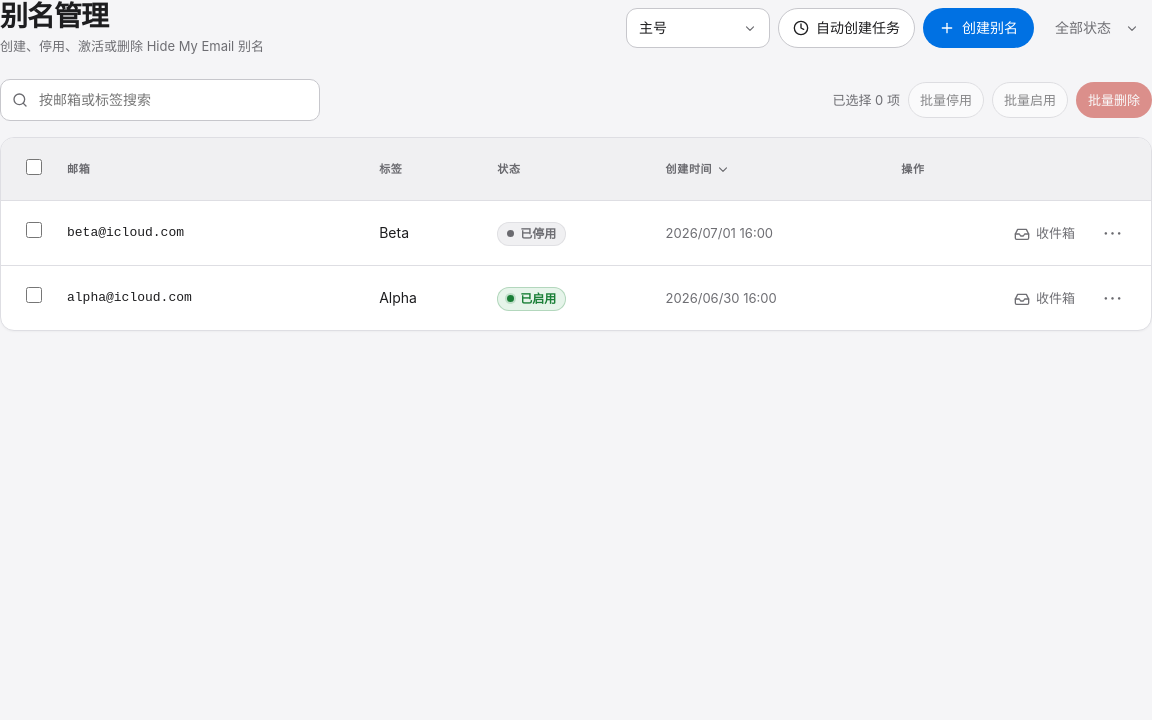
it: AliasesPage › 激活别名:显示目标邮箱并二次确认
Check: the button "beta@icloud.com" is shown, box x1=67 y1=213 x2=184 y2=253
Click the button named "更多操作".
click(1113, 233)  # box x1=1093 y1=213 x2=1133 y2=253
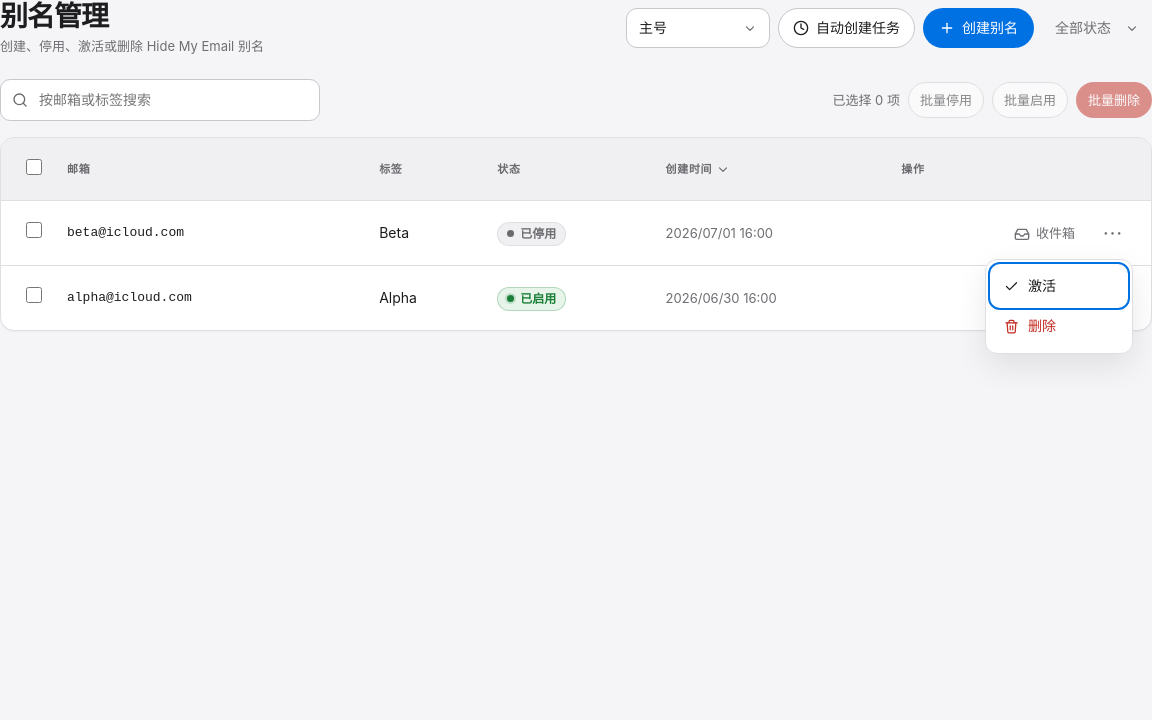
Click the menu item "激活".
click(1059, 287)  # box x1=992 y1=266 x2=1126 y2=307
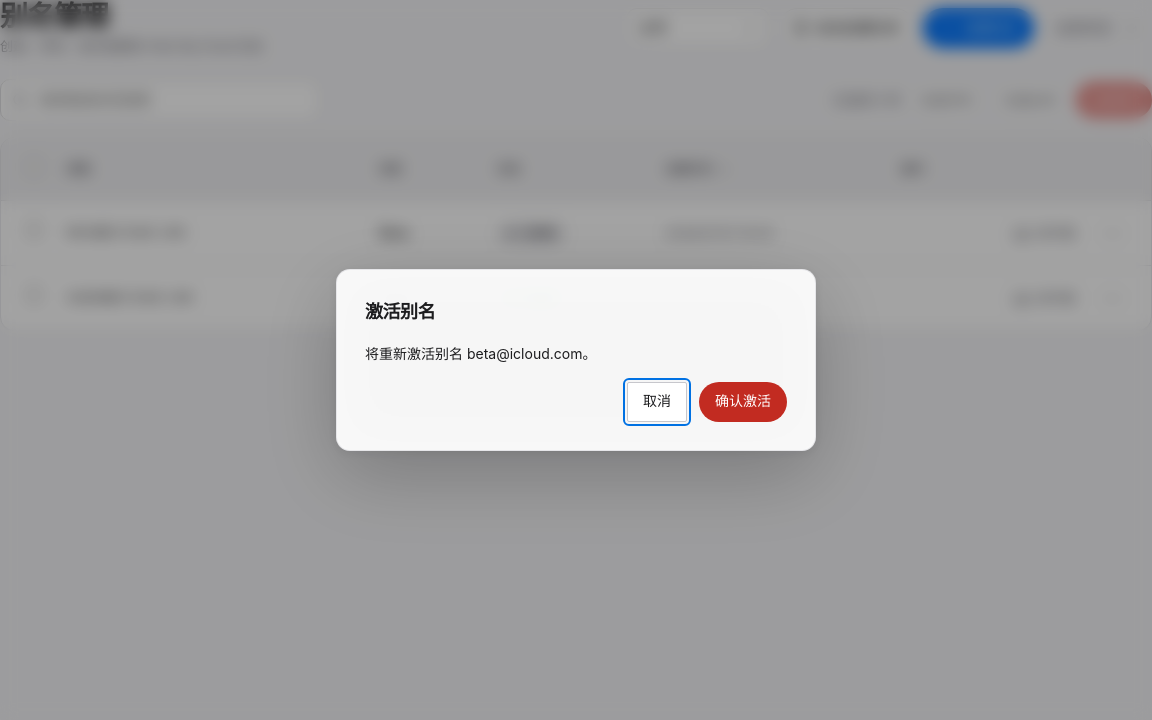
Check: the dialog shows "beta@icloud.com", box x1=365 y1=345 x2=596 y2=362
Click the button "确认激活".
click(743, 402)  # box x1=699 y1=382 x2=787 y2=422
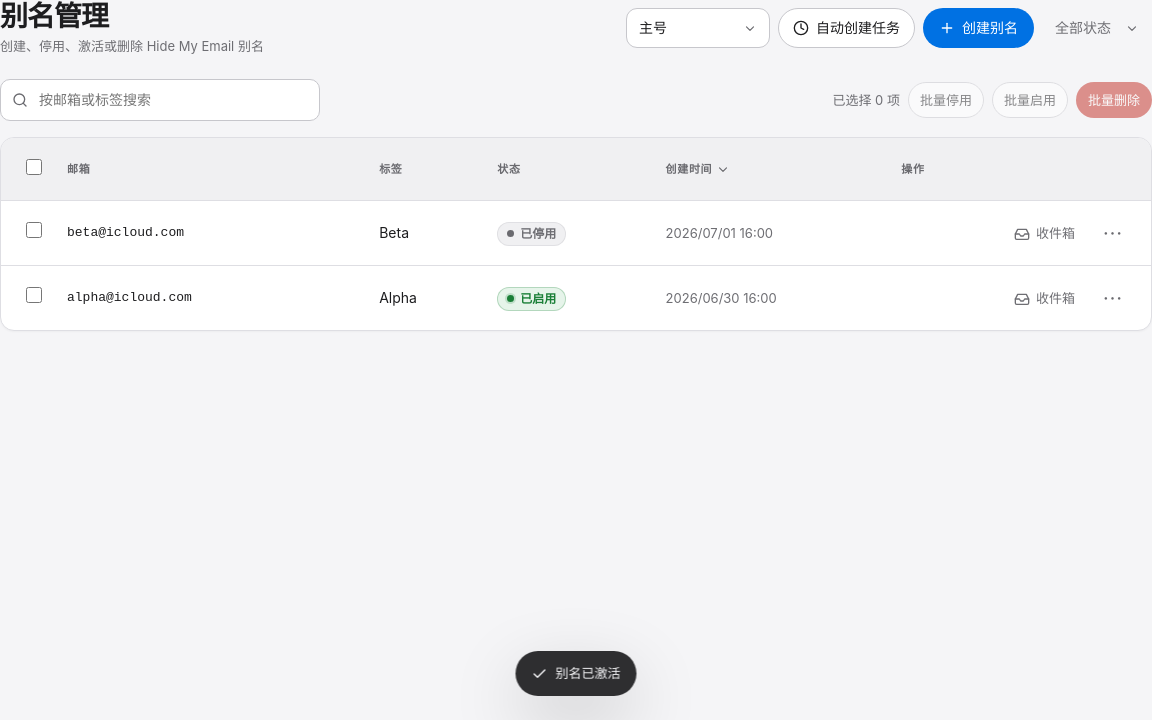
Check: the dialog is gone
